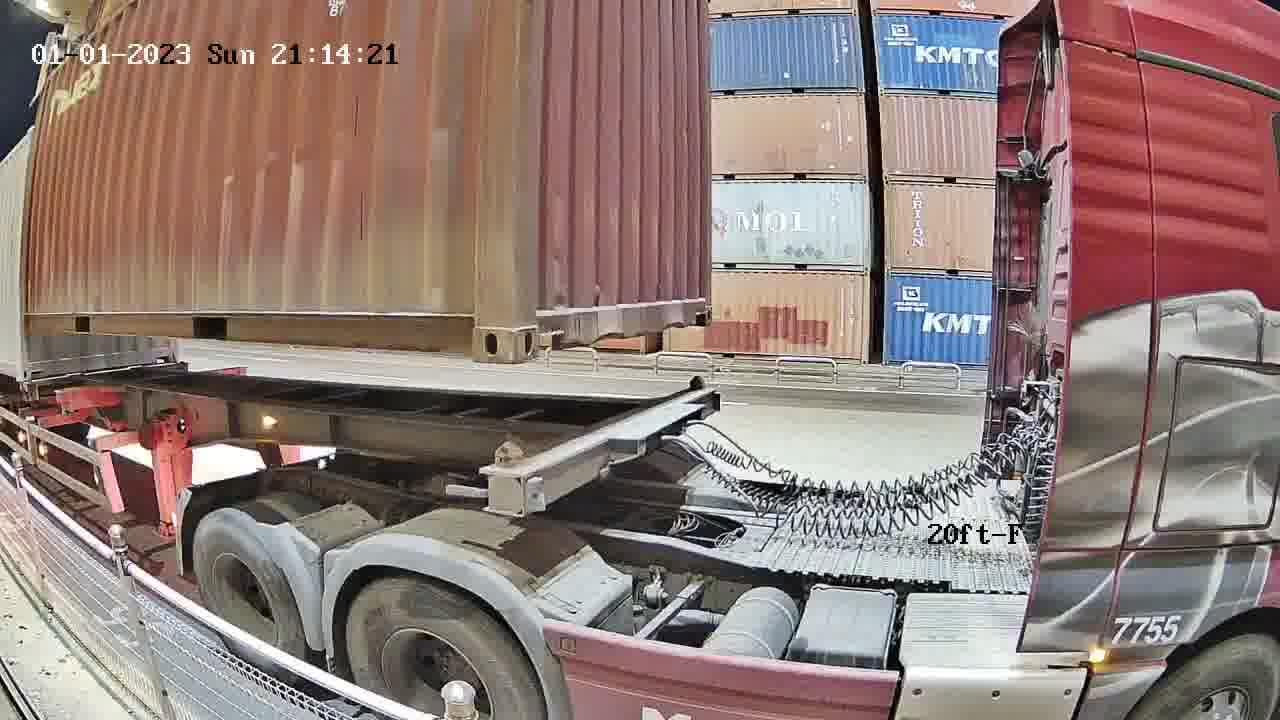Chassis: (479, 384, 721, 518)
Cone: (486, 440, 527, 514), (686, 375, 713, 401)
Hole_L: (514, 284, 575, 362)
Hole_R: (443, 294, 514, 365), (688, 280, 715, 324)
Tire: (347, 582, 541, 717), (192, 507, 299, 656)
